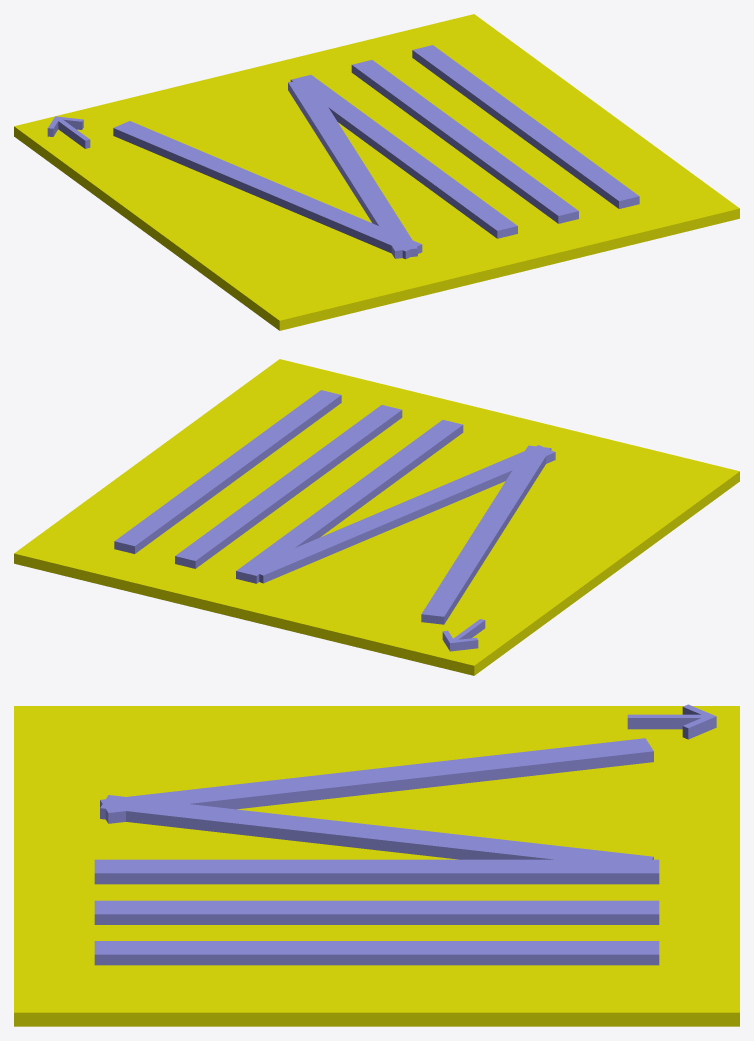
File: mark_8.fbx
3 renders of one model, top to bottom at view 1: azimuth 30°, elevation 25°; view 2: azimuth 150°, elevation 25°; view 3: azimuth 270°, elevation 25°, orthographic. The views are drawn at different scales.
Visible parts, largest first — view 1: pCube3, pCube9, pCube11, pCube10, pCube4, pCube8; view 2: pCube3, pCube8, pCube11, pCube10, pCube4, pCube9; view 3: pCube3, pCube4, pCube10, pCube11, pCube9, pCube8, pCube7.
Part boxes in pixels (x1=…): pCube3: x1=14, y1=14, x2=739, y2=330; pCube9: x1=113, y1=121, x2=422, y2=259; pCube11: x1=412, y1=45, x2=639, y2=208; pCube10: x1=351, y1=60, x2=578, y2=223; pCube4: x1=290, y1=75, x2=517, y2=238; pCube8: x1=288, y1=80, x2=417, y2=258; pCube3: x1=14, y1=359, x2=739, y2=675; pCube8: x1=259, y1=445, x2=555, y2=583; pCube11: x1=114, y1=390, x2=341, y2=553; pCube10: x1=175, y1=405, x2=402, y2=568; pCube4: x1=236, y1=420, x2=463, y2=583; pCube9: x1=421, y1=445, x2=551, y2=624; pCube3: x1=14, y1=706, x2=739, y2=1026; pCube4: x1=94, y1=859, x2=659, y2=884; pCube10: x1=94, y1=900, x2=659, y2=924; pCube11: x1=94, y1=941, x2=659, y2=965; pCube9: x1=100, y1=738, x2=653, y2=823; pCube8: x1=100, y1=795, x2=653, y2=869; pCube7: x1=627, y1=714, x2=704, y2=729.
Size of the model in its own units: 0.9 by 0.0345 by 0.9.
